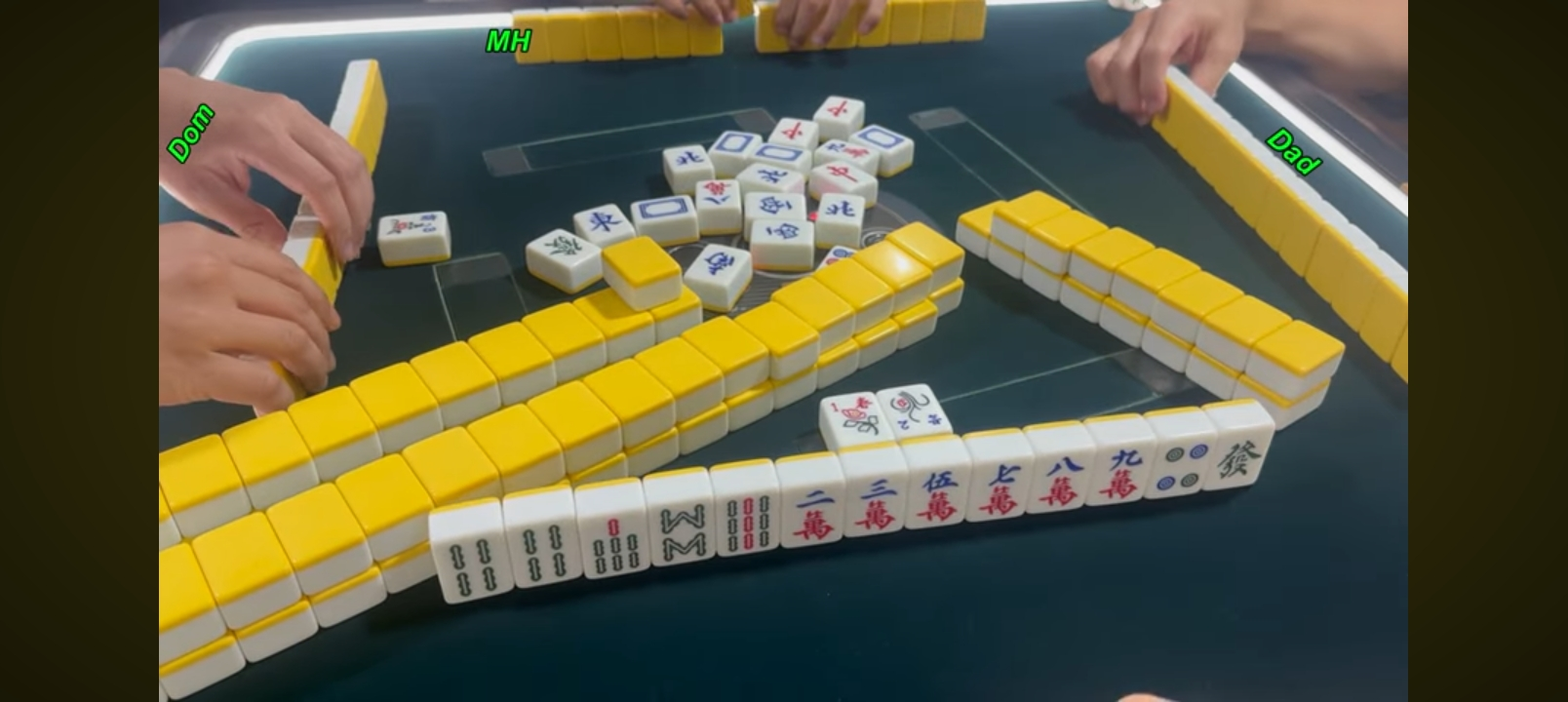TILE: (433, 534, 511, 604), (508, 521, 580, 585), (580, 514, 647, 580), (649, 501, 715, 565), (779, 486, 846, 547), (716, 494, 779, 556), (910, 468, 972, 530), (973, 460, 1032, 524), (846, 475, 908, 535), (1150, 438, 1214, 496), (1032, 453, 1096, 510), (880, 385, 957, 432), (1212, 430, 1273, 489), (820, 392, 882, 450), (1095, 447, 1154, 503)
